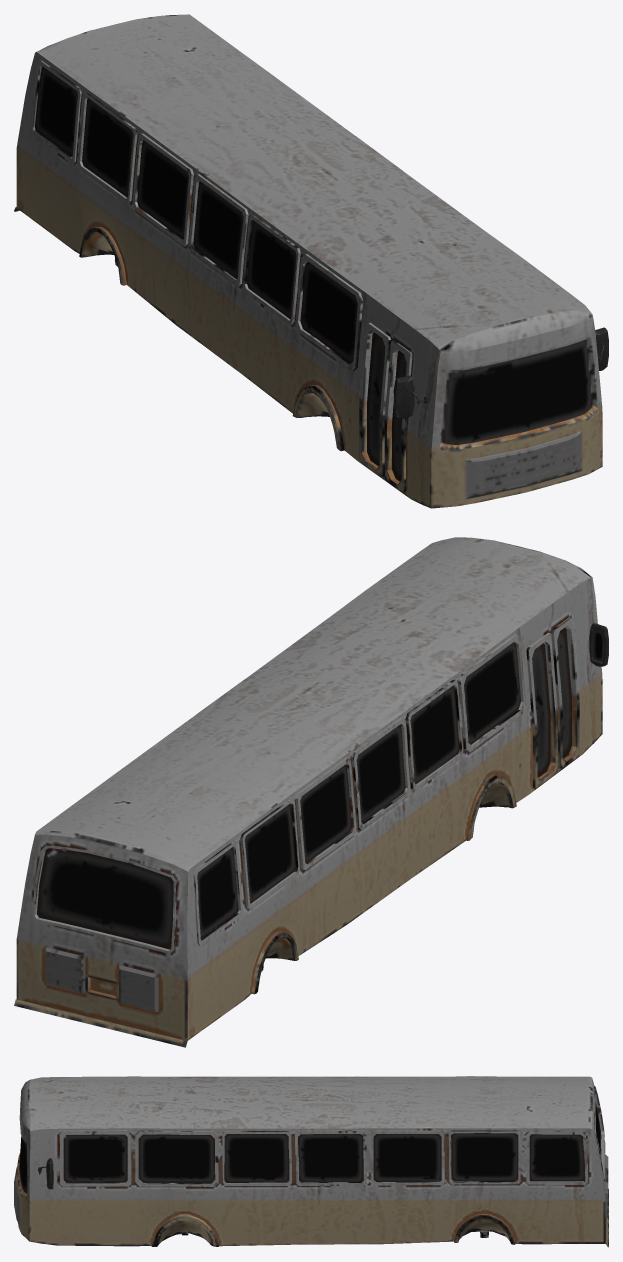
Rendered from Bus.fbx.
3 renders of one model, top to bottom at view 1: azimuth 30°, elevation 25°; view 2: azimuth 150°, elevation 25°; view 3: azimuth 270°, elevation 25°, orthographic. The views are drawn at different scales.
Visible parts, largest first — view 1: Cube; view 2: Cube; view 3: Cube.
Boxes of the visible parts, x1,y1,x2,y2 form: Cube: [14, 14, 608, 508]; Cube: [14, 537, 608, 1047]; Cube: [14, 1076, 608, 1247].
Bounding box in the file's own units: 280 × 221 × 978.
Materials: 1 (1 with a texture image).
